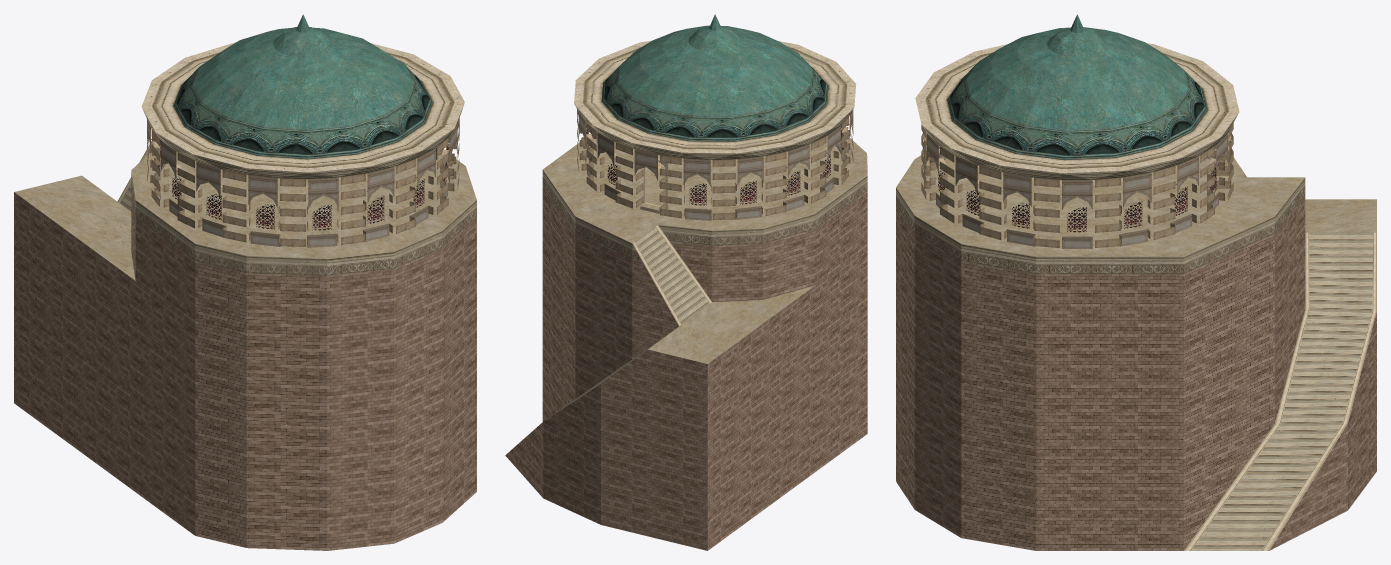
Rendered from ply_nboo_house_sm_s01_fp1_r0_mesh_l1.fbx.
The picture shows the model from 3 angles, left to right: view 1: azimuth 30°, elevation 25°; view 2: azimuth 150°, elevation 25°; view 3: azimuth 270°, elevation 25°; orthographic projection. The views are drawn at different scales.
Parts seen in each view (by area): view 1: mesh_node; view 2: mesh_node; view 3: mesh_node.
Boxes of the visible parts, bbox=[...] form: mesh_node: bbox=[14, 14, 476, 550]; mesh_node: bbox=[505, 14, 867, 550]; mesh_node: bbox=[896, 14, 1376, 550].
Bounding box in the file's own units: 16.69 × 26.2 × 24.44.
